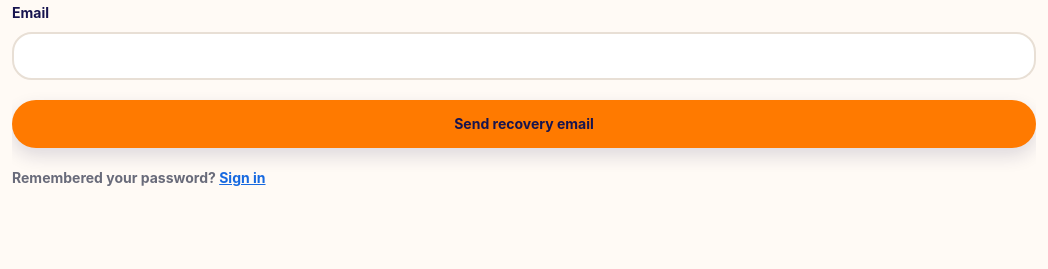
Test: AuthForm › shows a rate-limit message when recovery email sending is throttled
The width and height of the screenshot is (1048, 269).
Type "player@example.com" into the field labelled "Email".
click(524, 56); type("player@example.com")  # box [12, 32, 1036, 80]
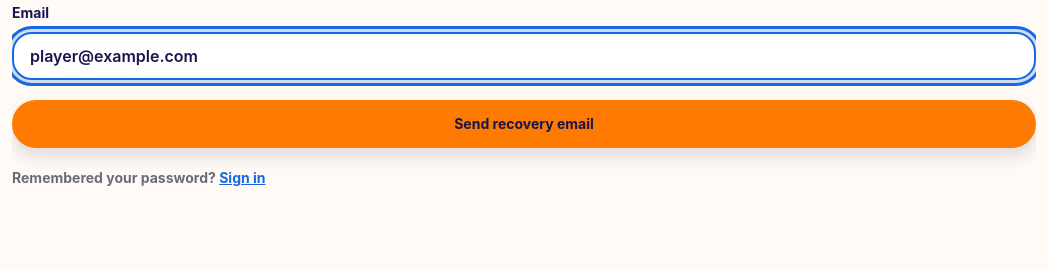
Click the button "Send recovery email".
click(524, 124)  # box [12, 100, 1036, 148]
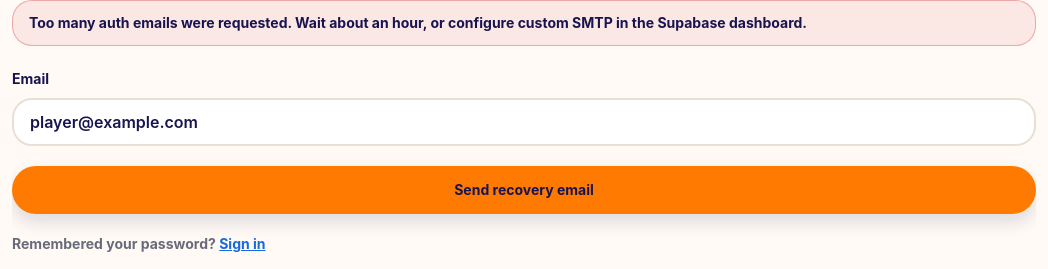
Expected: the text "Too many auth emails were requested. Wait about an hour, or configure custom SMTP in the Supabase dashboard." is shown, [29, 14, 807, 31]
